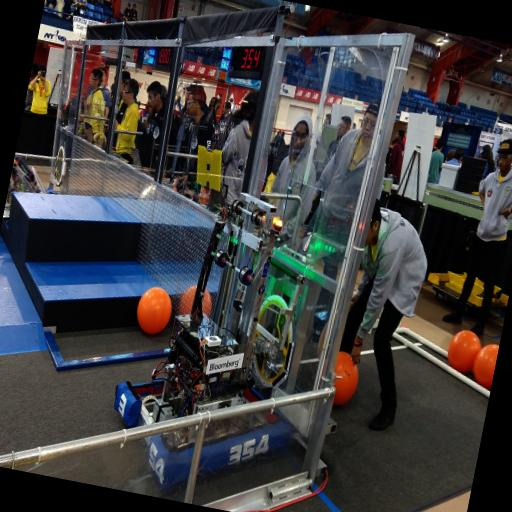robot: (94, 154, 343, 512)
